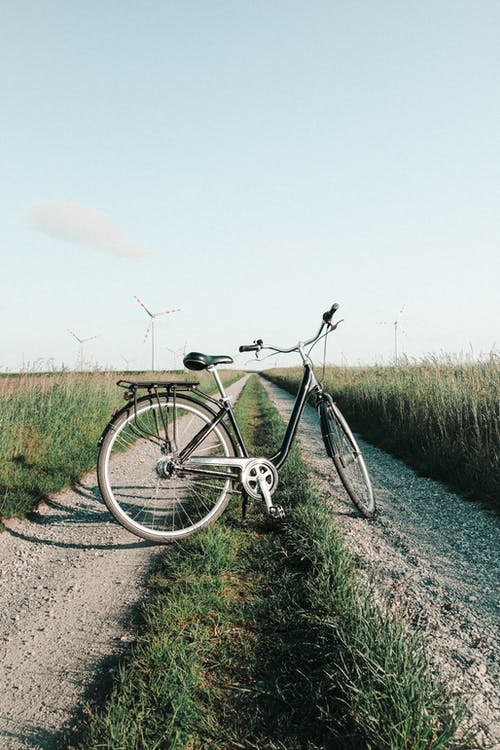bicycle: (87, 292, 384, 551)
